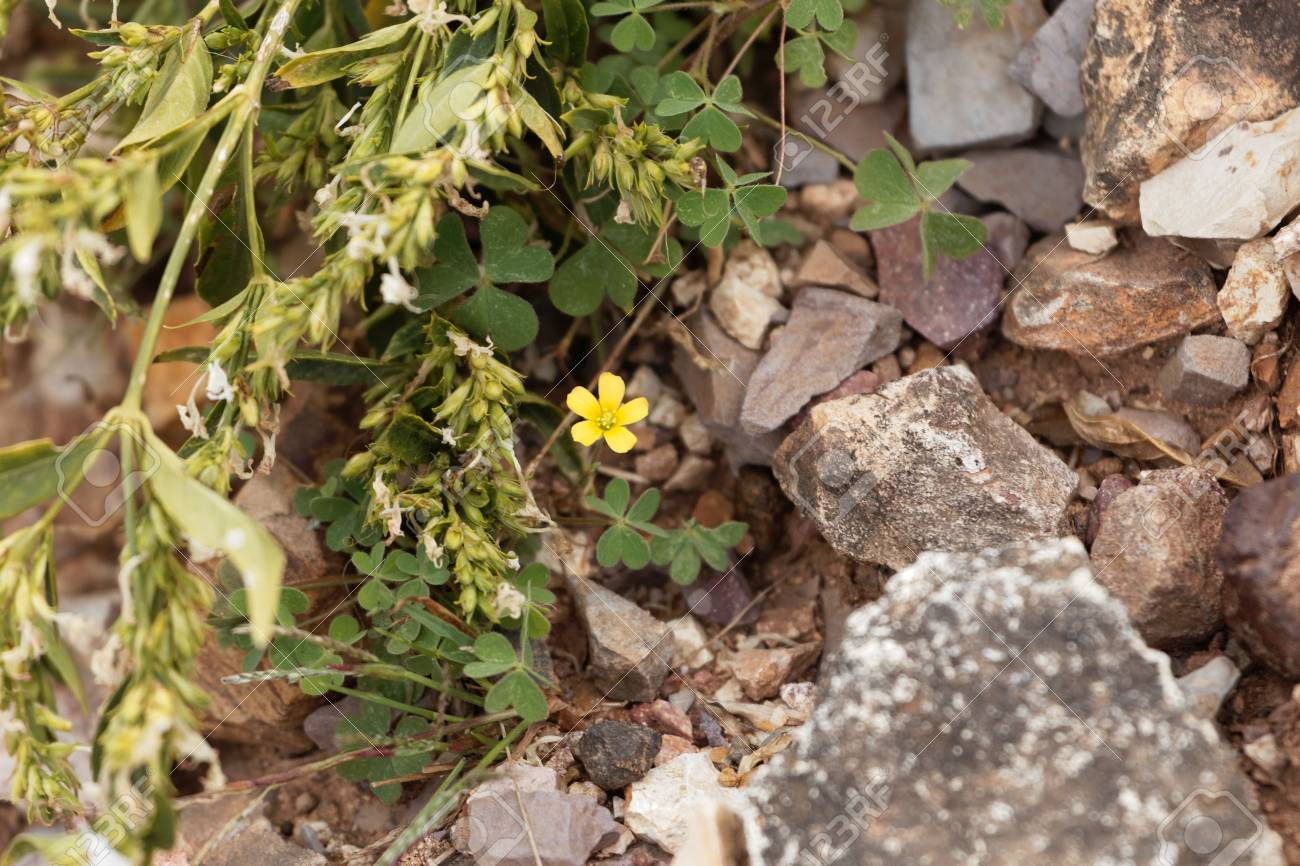oxalis: (594, 31, 798, 246), (869, 118, 1009, 293), (592, 451, 750, 600)
